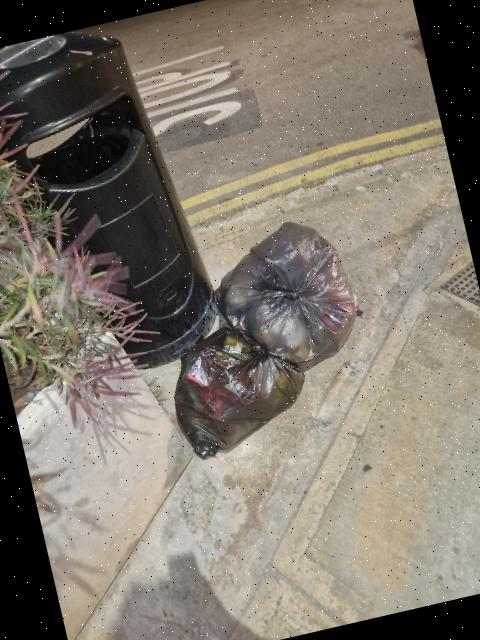Recyclable -Grey-: (217, 221, 356, 369), (174, 327, 304, 456)
